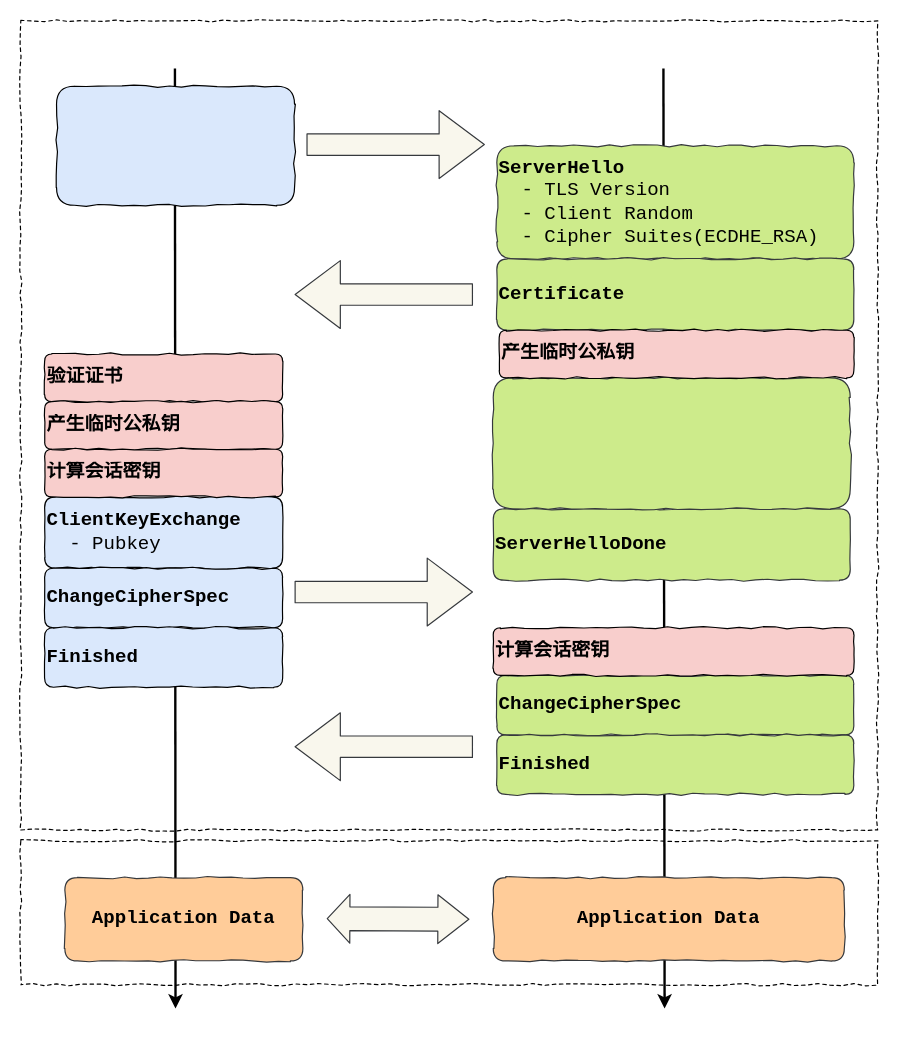
Some shapes in this 898 by 1040 pixel diagram are drawn without their labels. The shapes that lost their labels are listed below. From the top down, each one's centre as x and y in pixels, then its label:
point (175, 145): ClientHello - TLS Version - Client Random - Cipher Suites
point (671, 443): ServerKeyExchange - Named Curve - Pubkey - Signature
